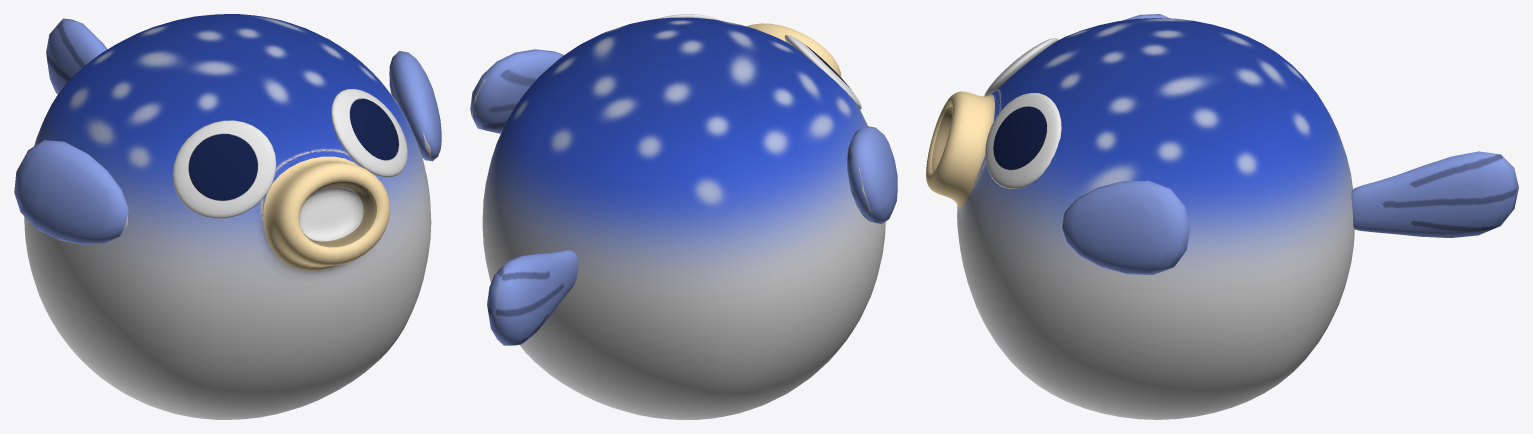
File: hugu2.fbx
3 views of the same model, side by side, from view 1: azimuth 30°, elevation 25°; view 2: azimuth 150°, elevation 25°; view 3: azimuth 270°, elevation 25° (orthographic).
Visible parts, largest first — view 1: Cube, 球, 立方体, 立方体.001; view 2: Cube, 立方体, 立方体.001, 球; view 3: Cube, 立方体.001, 立方体, 球.
Boxes of the visible parts, x1,y1,x2,y2 form: Cube: [24, 14, 431, 419]; 球: [172, 89, 407, 218]; 立方体: [14, 51, 441, 244]; 立方体.001: [46, 18, 107, 94]; Cube: [482, 17, 885, 419]; 立方体: [470, 49, 897, 224]; 立方体.001: [487, 250, 578, 345]; 球: [657, 14, 861, 109]; Cube: [926, 18, 1354, 419]; 立方体.001: [1351, 151, 1518, 237]; 立方体: [1061, 14, 1189, 274]; 球: [984, 38, 1061, 189].
Bounding box in the file's own units: 190 × 160 × 240.
